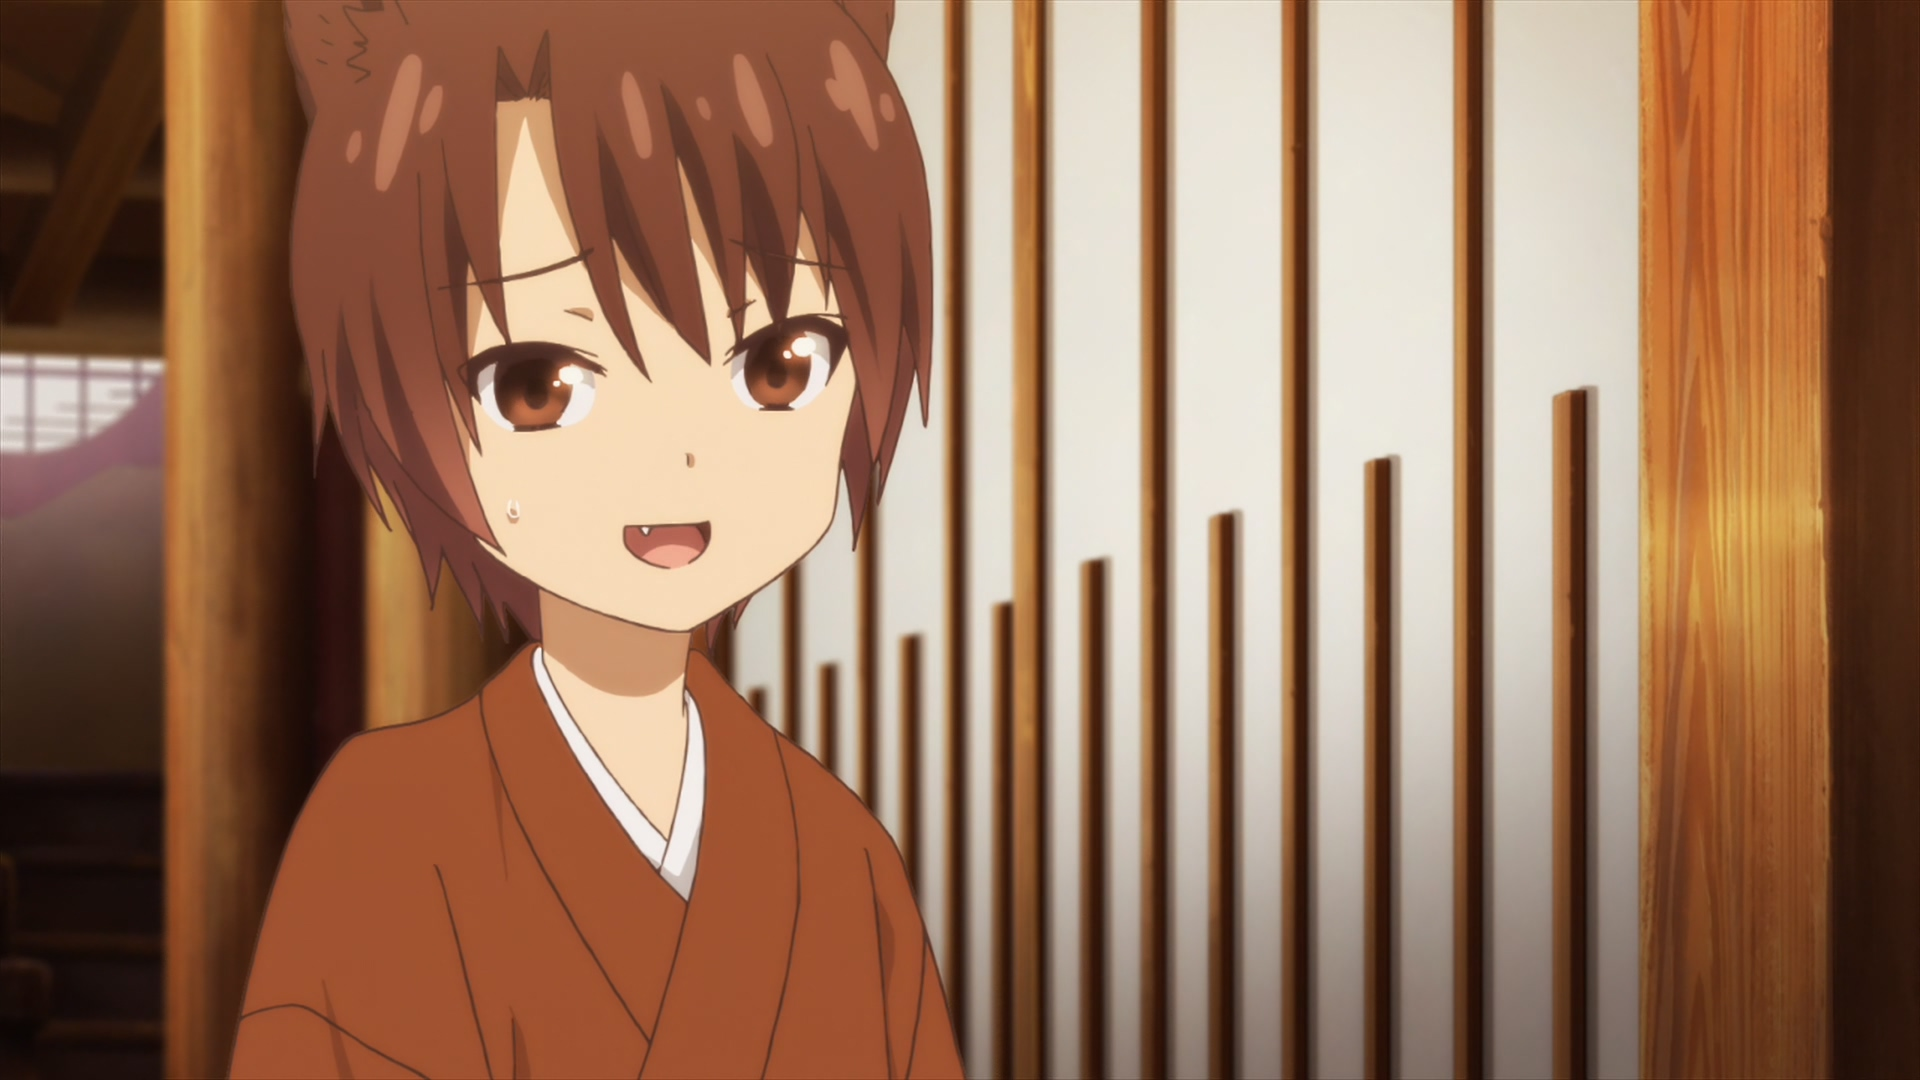枣: (229, 1, 965, 1080)
